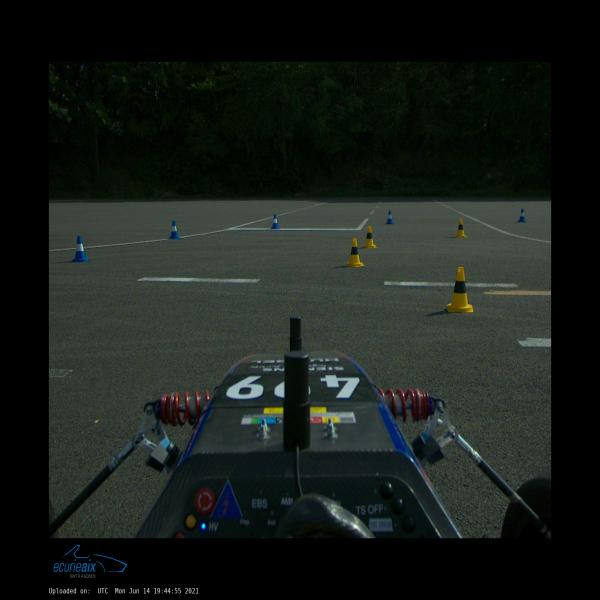blue_cone: (70, 236, 90, 262), (170, 220, 180, 238), (270, 214, 280, 229), (518, 209, 526, 222), (386, 211, 394, 224)
yellow_cone: (447, 267, 474, 312), (343, 238, 365, 267), (362, 226, 378, 248), (454, 219, 468, 238)
